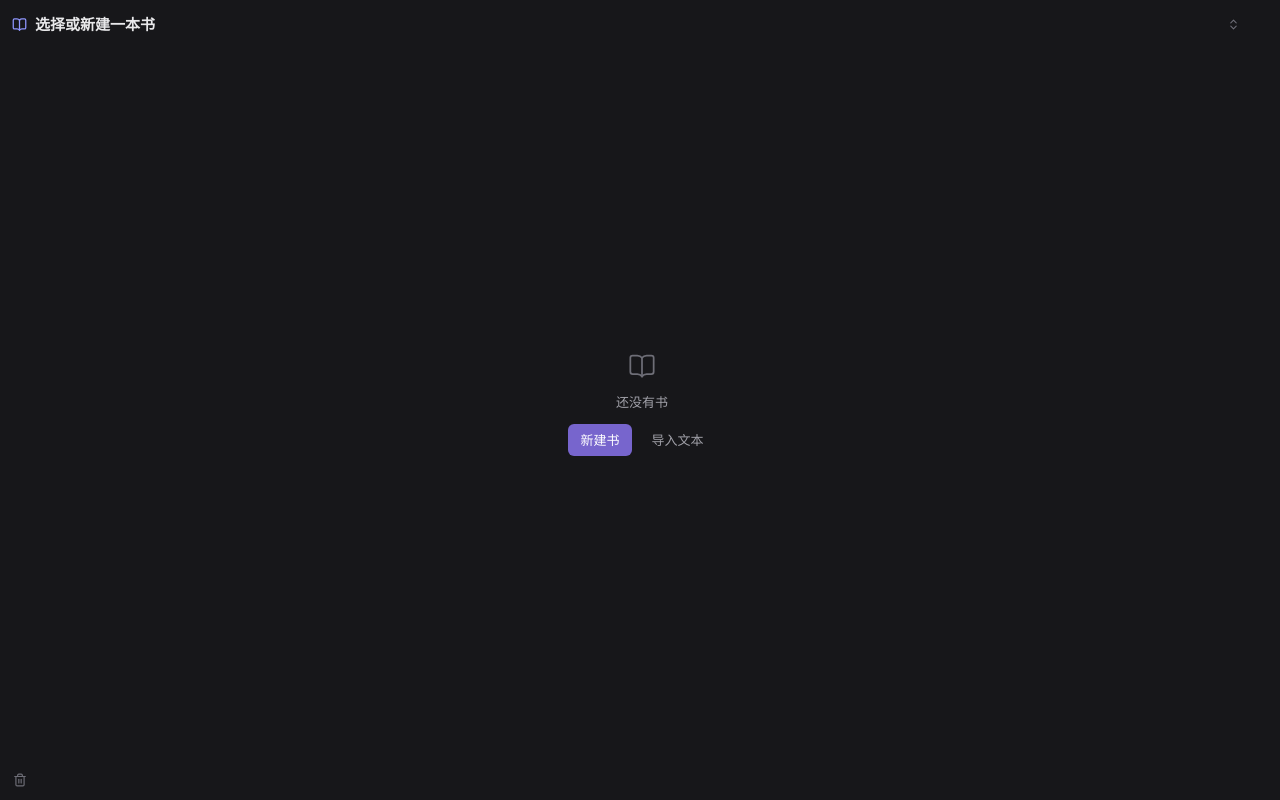
Test: Sidebar › 空库也能导入：空态直接给「导入文本」，点击打开向导
Click the button with aria-label "导入章节" at x=678, y=440, box top-left (640, 424), bottom-right (716, 456)
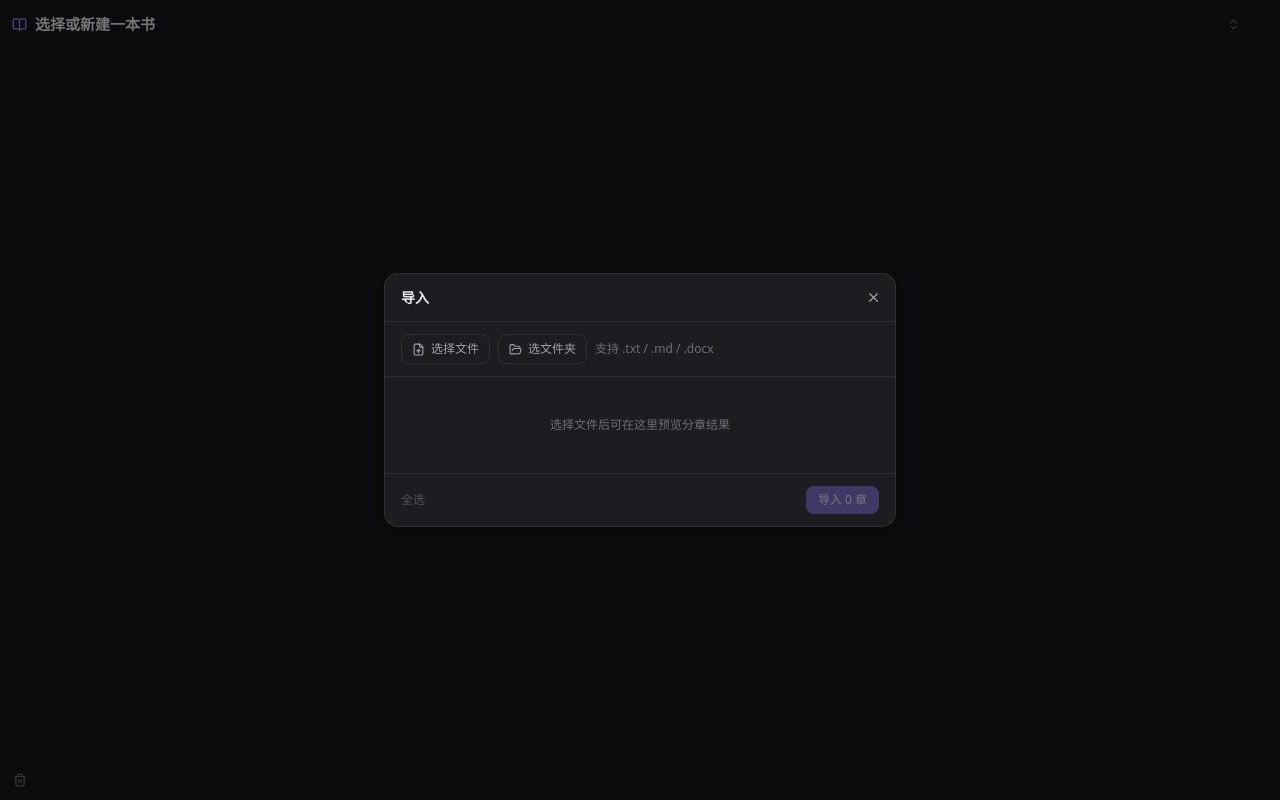
Expected: the button "选择文件" is shown, top-left (401, 334), bottom-right (490, 364)
